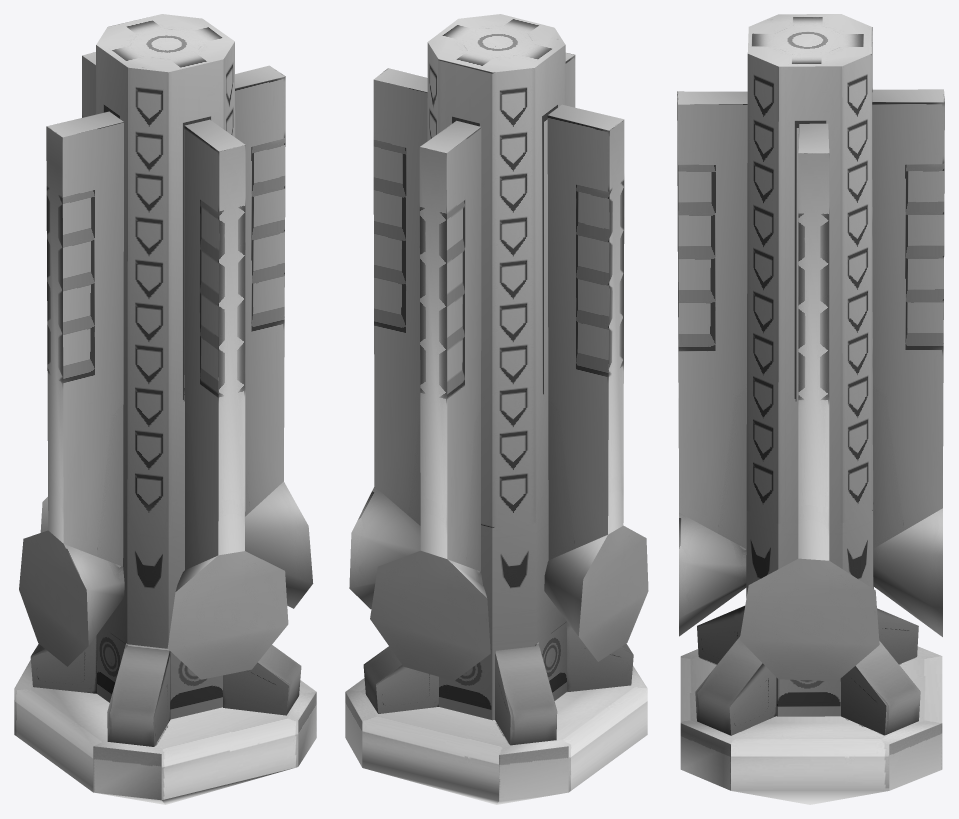
Rendered from Stolb.FBX.
3 views of the same model, side by side, from view 1: azimuth 30°, elevation 25°; view 2: azimuth 150°, elevation 25°; view 3: azimuth 270°, elevation 25° (orthographic).
Visible parts, largest first — view 1: Plane003; view 2: Plane003; view 3: Plane003.
Part boxes in pixels (x1,y1,x2,y2): Plane003: (14,14,316,804); Plane003: (345,14,648,804); Plane003: (677,14,944,804).
Bounding box in the file's own units: 41.08 × 130 × 41.18.
